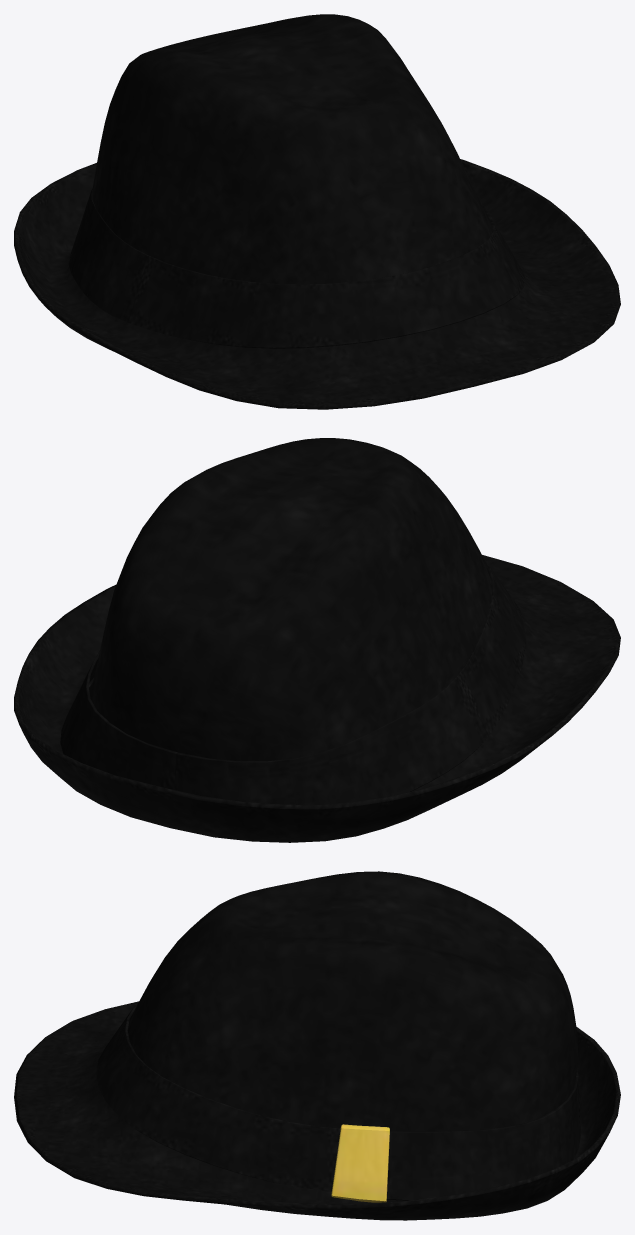
Rendered from hat_fedora.glb.
3 views of the same model, one above another, from view 1: azimuth 30°, elevation 25°; view 2: azimuth 150°, elevation 25°; view 3: azimuth 270°, elevation 25° (orthographic). The views are drawn at different scales.
Parts seen in each view (by area): view 1: defaultMaterial; view 2: defaultMaterial; view 3: defaultMaterial.
Part boxes in pixels (x1,y1,x2,y2): defaultMaterial: (14, 14, 620, 409); defaultMaterial: (14, 438, 620, 842); defaultMaterial: (14, 871, 620, 1220).
Bounding box in the file's own units: 1.17 × 0.5722 × 1.35.
Materials: 2 (2 with a texture image).
